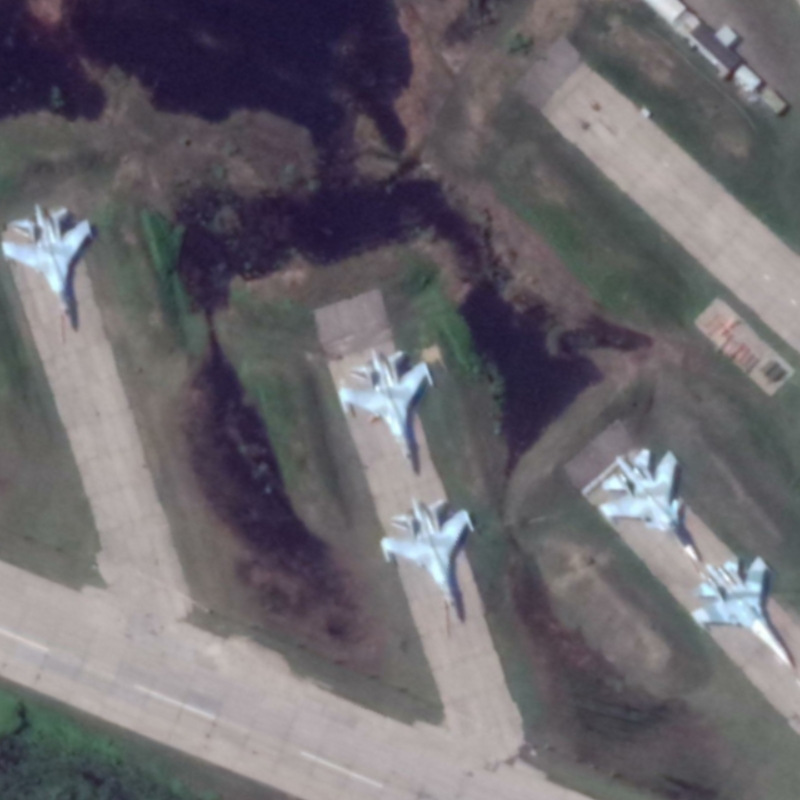A1: (377, 494, 479, 630), (335, 344, 438, 477), (687, 552, 796, 673), (1, 199, 96, 332)
A19: (596, 445, 705, 568)
